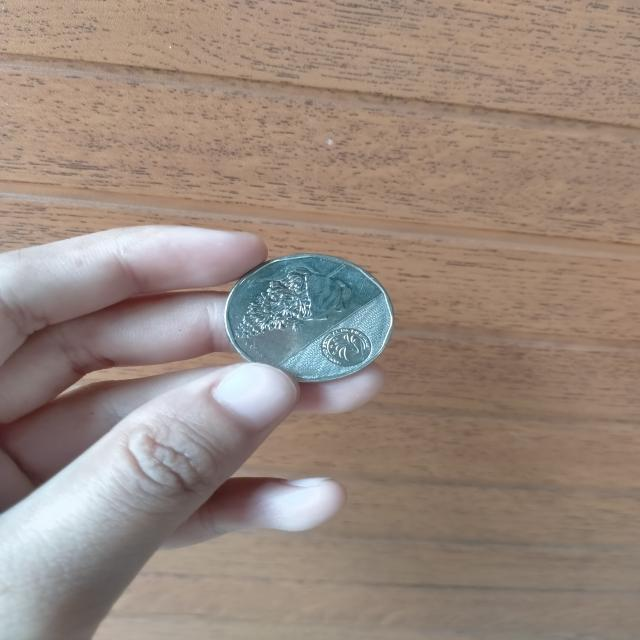10_New_Back: (226, 251, 354, 340)
